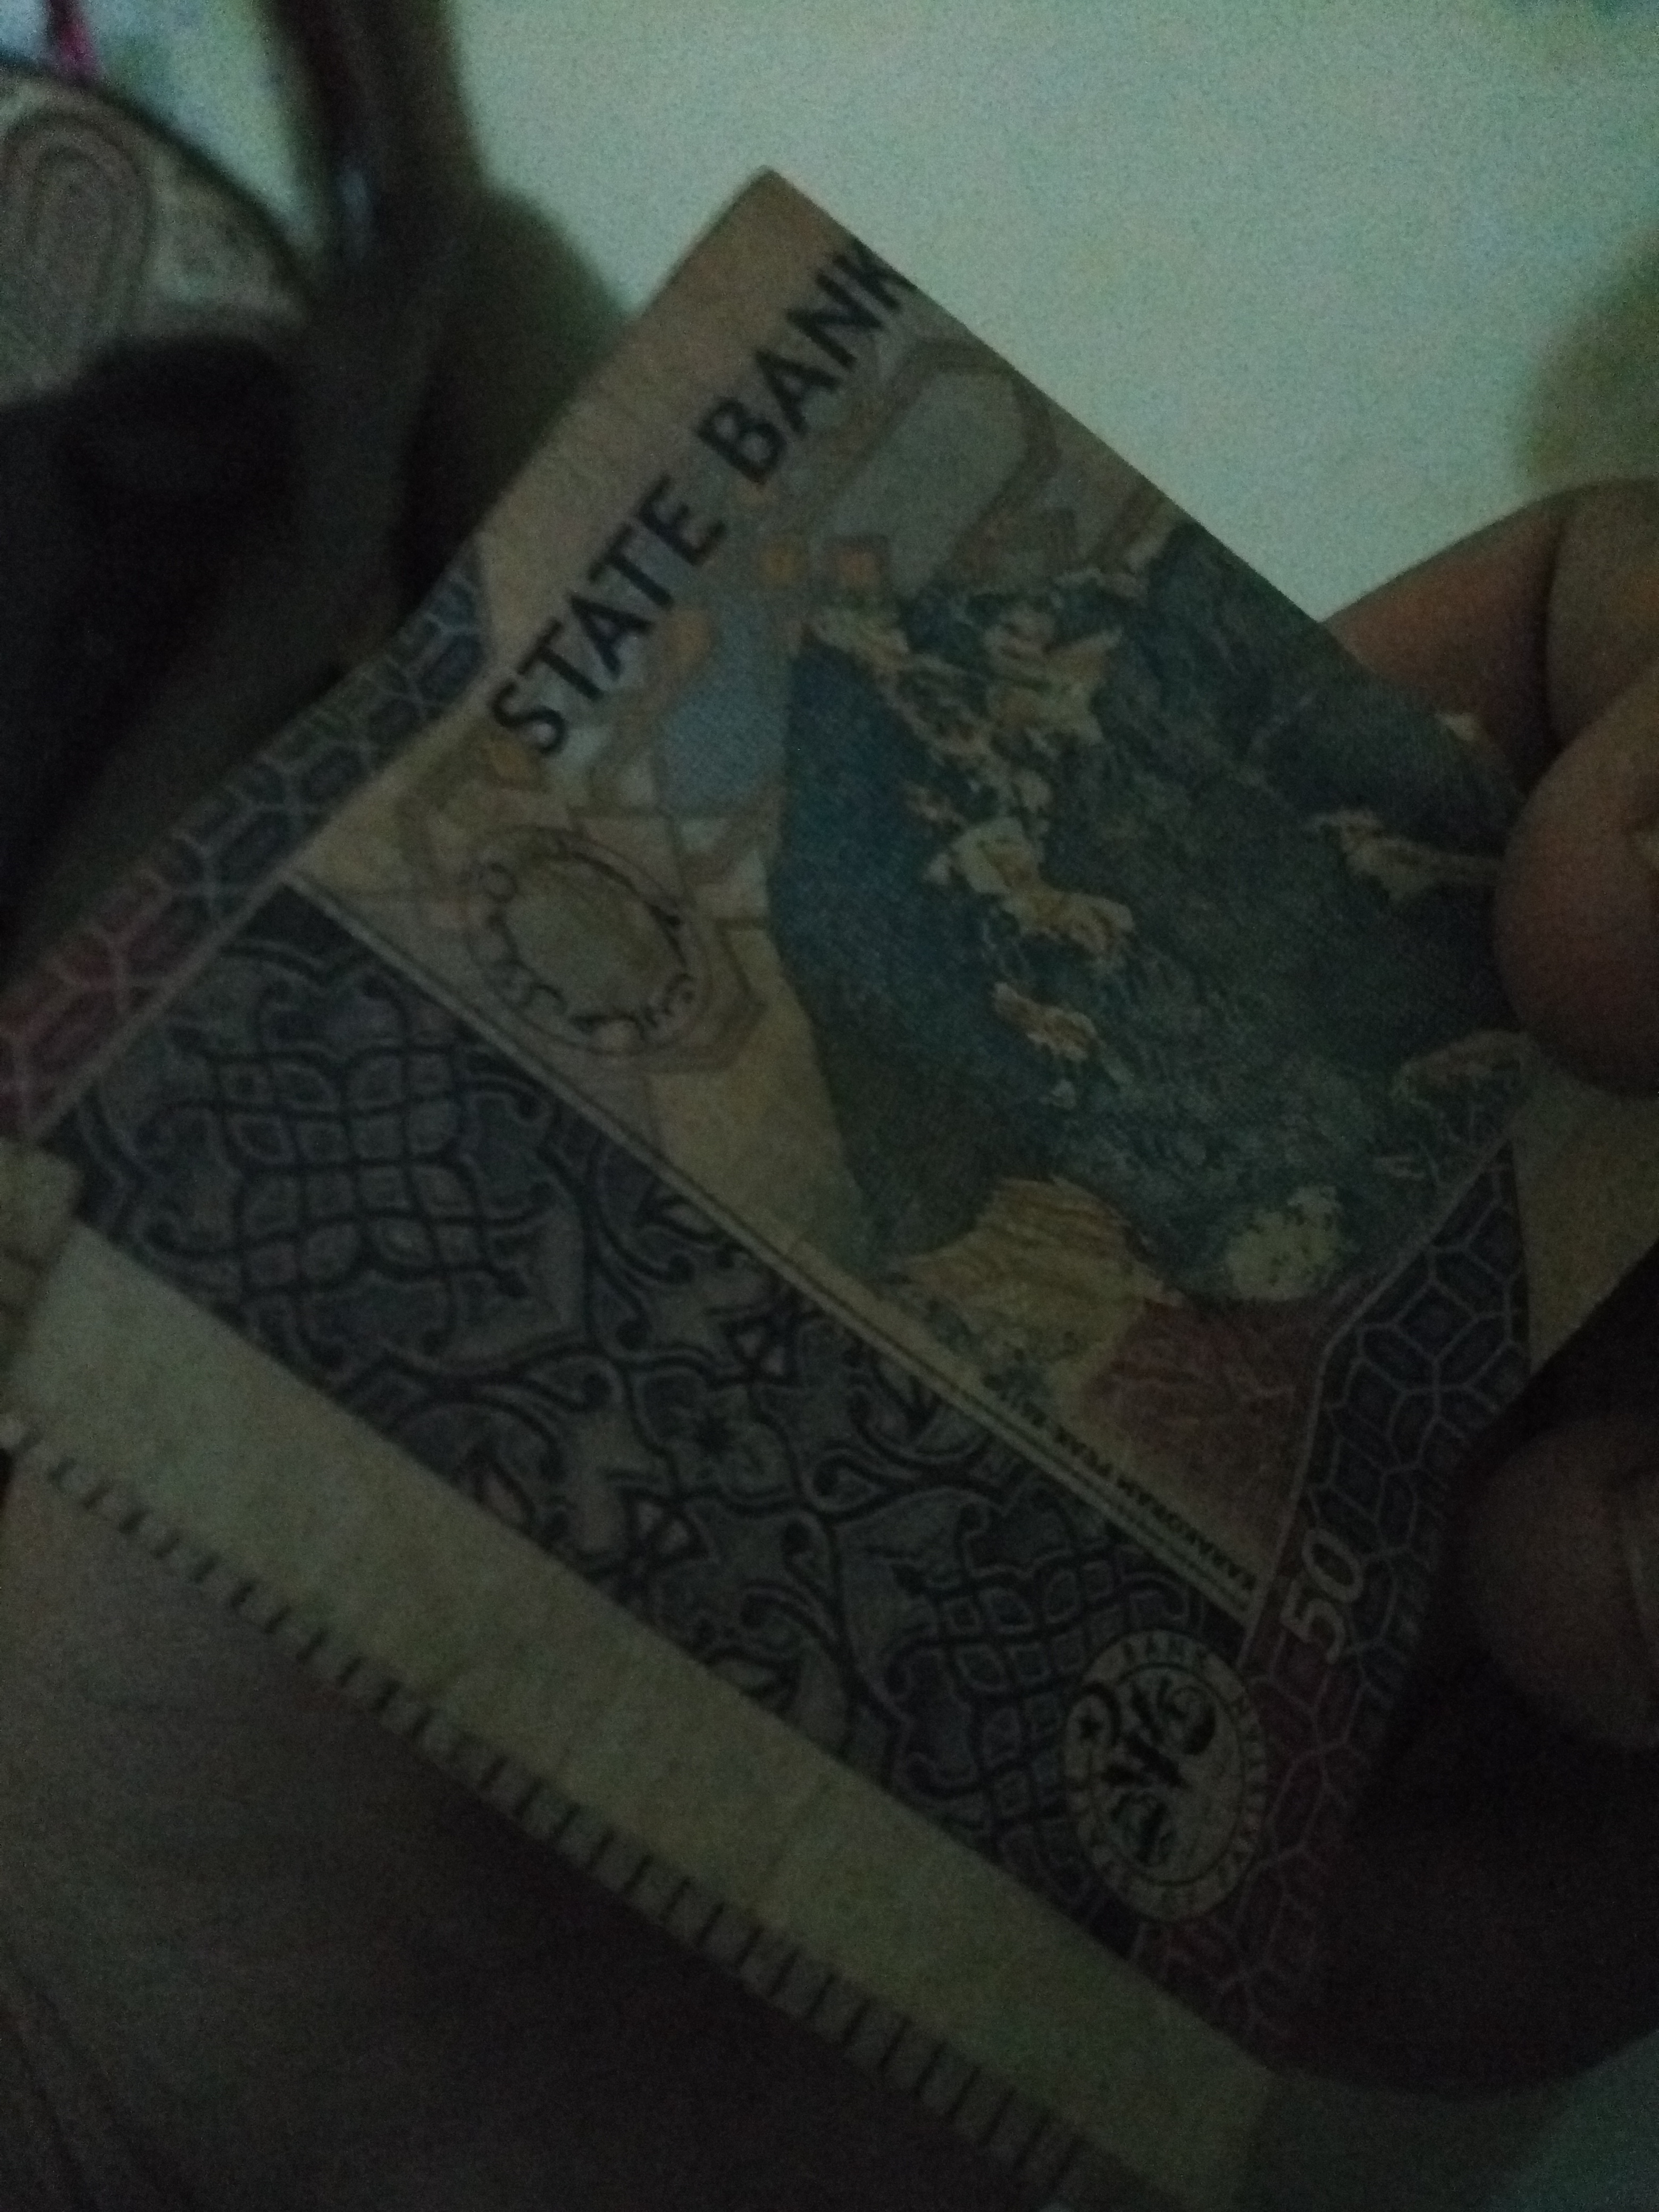50 rupee: (35, 155, 1635, 2099)
